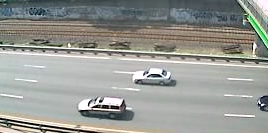car: (76, 94, 129, 120), (130, 65, 174, 89)
